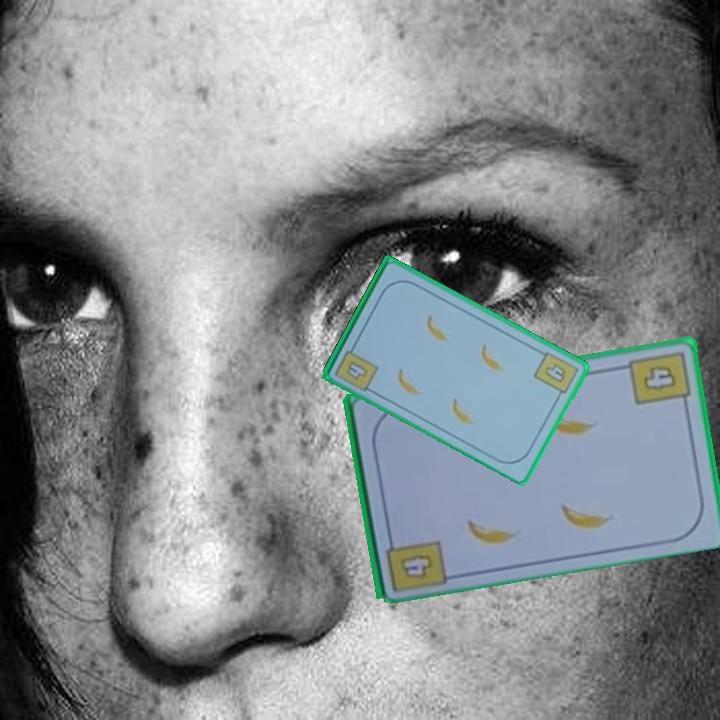4b: (625, 346, 693, 410), (530, 348, 581, 402), (396, 550, 437, 582), (343, 357, 371, 382)
